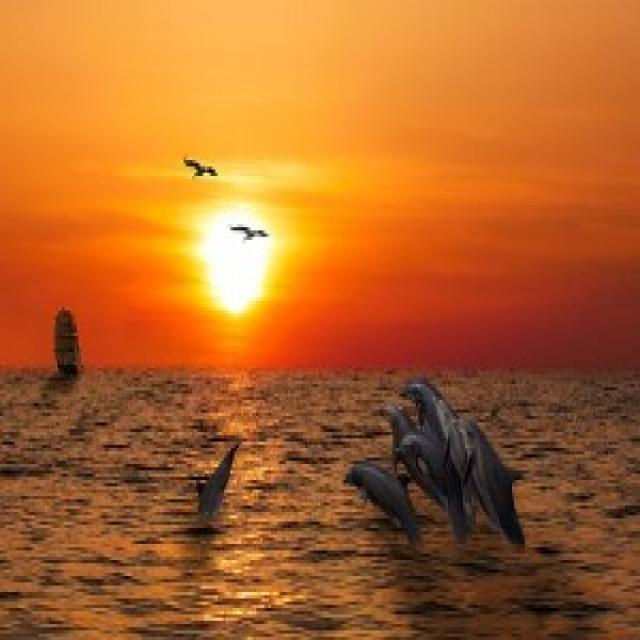Dolphin: (458, 415, 528, 540), (337, 456, 422, 542), (398, 427, 454, 515), (400, 372, 438, 426), (366, 391, 407, 424), (431, 388, 456, 431)
